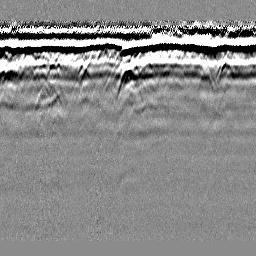cavity: (113, 62, 143, 105)
